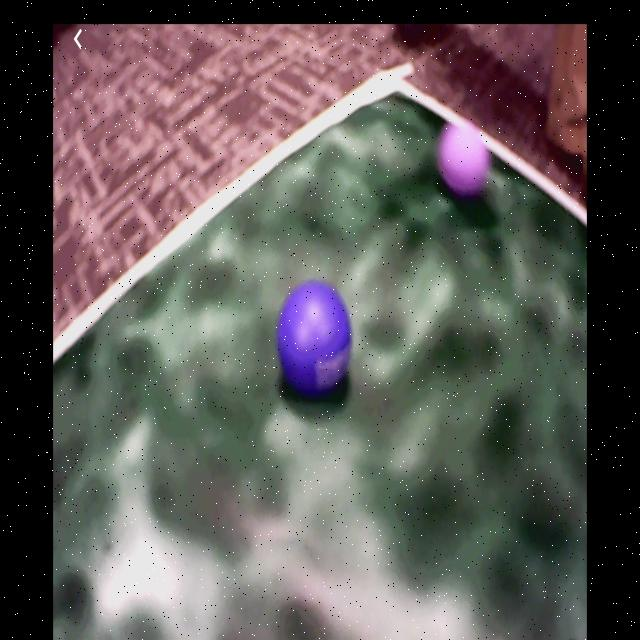ball: (280, 283, 351, 393), (439, 121, 490, 194)
